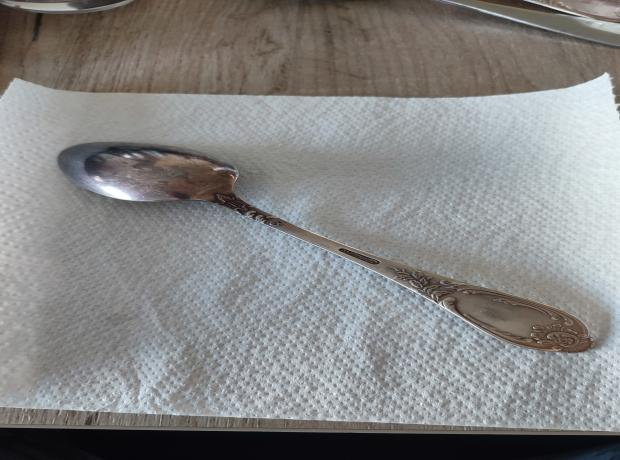metal: (58, 140, 596, 353)
